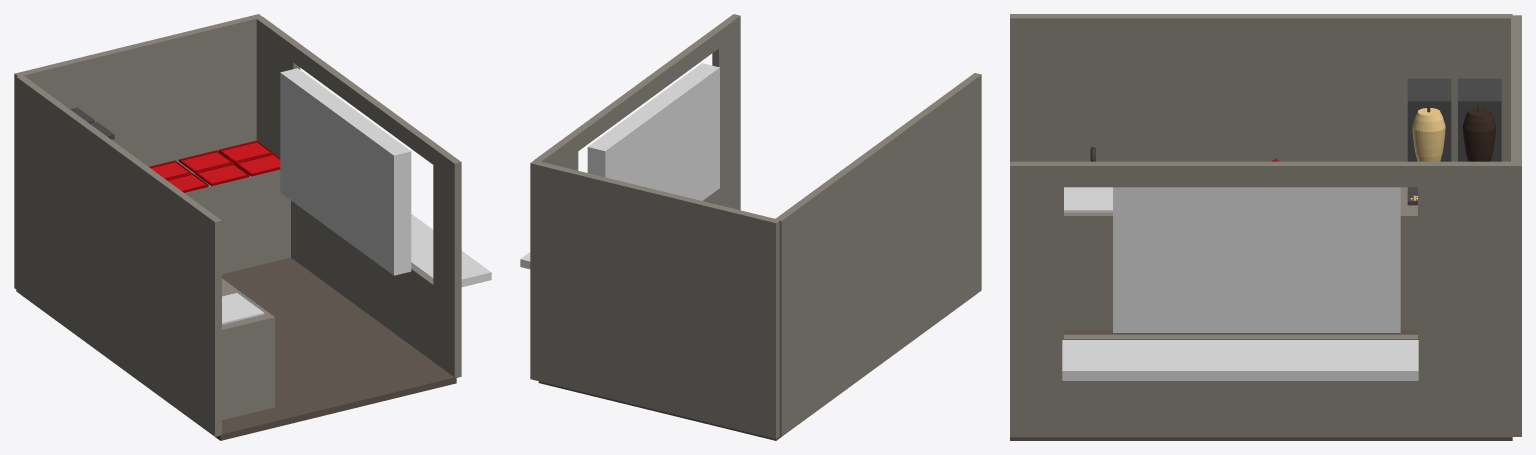
Rendered from кухня фудтрака.fbx.
The picture shows the model from 3 angles, left to right: view 1: azimuth 30°, elevation 25°; view 2: azimuth 150°, elevation 25°; view 3: azimuth 270°, elevation 25°; orthographic projection. The views are drawn at different scales.
Parts seen in each view (by area): view 1: Cube.001, Cube.002, Cube.003, Cube, Cube.004, Cube.028, Cube.005, Cube.008, Cube.009, Cube.034, Cube.030, Cube.029 (+3 smaller); view 2: Cube.003, Cube.001, Cube.004, Cube.002, Cube; view 3: Cube.002, Cube.001, Cube.004, Cube.008, Cube.005, Cube.003, Cube, Cube.007, Cube.006, Cylinder.002, Cylinder.001, Cube.009.
Part boxes in pixels (x1,y1,x2,y2): Cube.001: (16, 75, 221, 436); Cube.002: (256, 16, 461, 377); Cube.003: (14, 14, 261, 288); Cube: (215, 257, 456, 440); Cube.004: (280, 68, 411, 275); Cube.028: (177, 161, 290, 274); Cube.005: (222, 278, 274, 420); Cube.008: (411, 214, 491, 287); Cube.009: (222, 293, 264, 324); Cube.034: (195, 163, 249, 186); Cube.030: (178, 150, 233, 172); Cube.029: (218, 140, 273, 163); Cube.003: (530, 160, 779, 438); Cube.001: (775, 73, 981, 436); Cube.004: (587, 63, 719, 200); Cube.002: (534, 14, 740, 210); Cube: (538, 381, 781, 440); Cube.002: (1010, 161, 1512, 437); Cube.001: (1010, 14, 1512, 161); Cube.004: (1113, 187, 1400, 332); Cube.008: (1062, 340, 1418, 380); Cube.005: (1064, 187, 1417, 329); Cube.003: (1511, 15, 1521, 436); Cube: (1010, 330, 1512, 440); Cube.007: (1407, 78, 1451, 205); Cube.006: (1458, 78, 1501, 161); Cylinder.002: (1412, 108, 1445, 161); Cylinder.001: (1462, 108, 1495, 161); Cube.009: (1064, 187, 1112, 212).
Bounding box in the file's own units: 2410 × 1706 × 2846.
42 materials, 4 textured.
